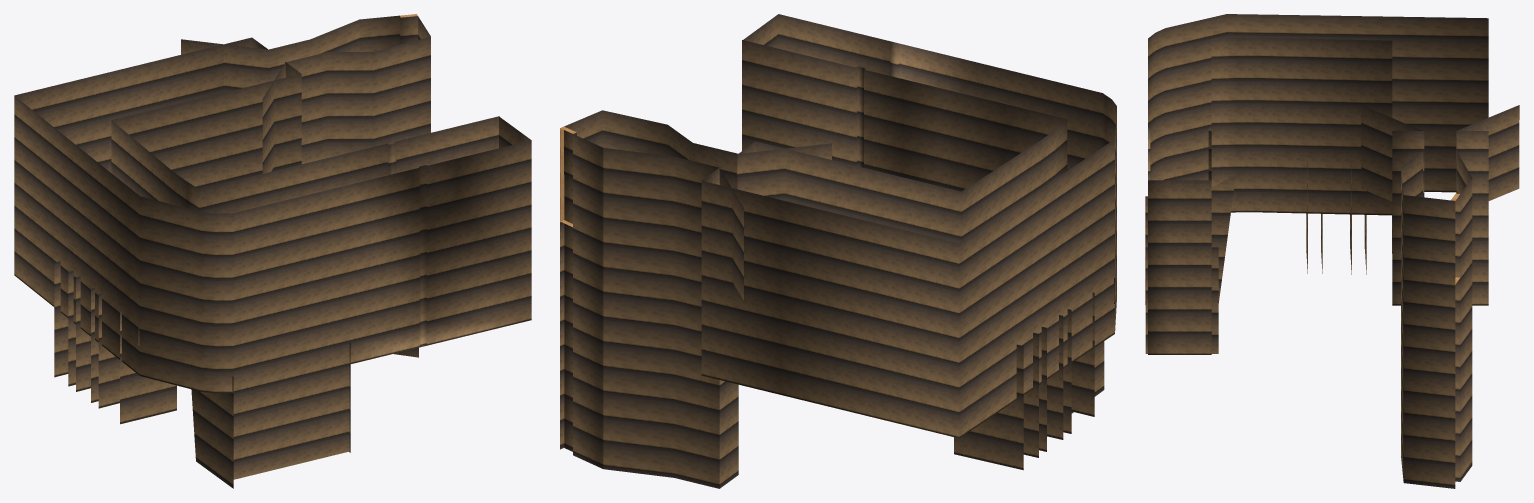
Rendered from nivel tierra_paredes.fbx.
3 views of the same model, side by side, from view 1: azimuth 30°, elevation 25°; view 2: azimuth 150°, elevation 25°; view 3: azimuth 270°, elevation 25° (orthographic). The views are drawn at different scales.
Visible parts, largest first — view 1: Sueloladrillos.003; view 2: Sueloladrillos.003; view 3: Sueloladrillos.003.
Part boxes in pixels (<box>): Sueloladrillos.003: <box>14,14,531,488</box>; Sueloladrillos.003: <box>560,14,1116,488</box>; Sueloladrillos.003: <box>1145,14,1519,488</box>.
Size of the model in its own units: 12949 by 9289 by 10929.
